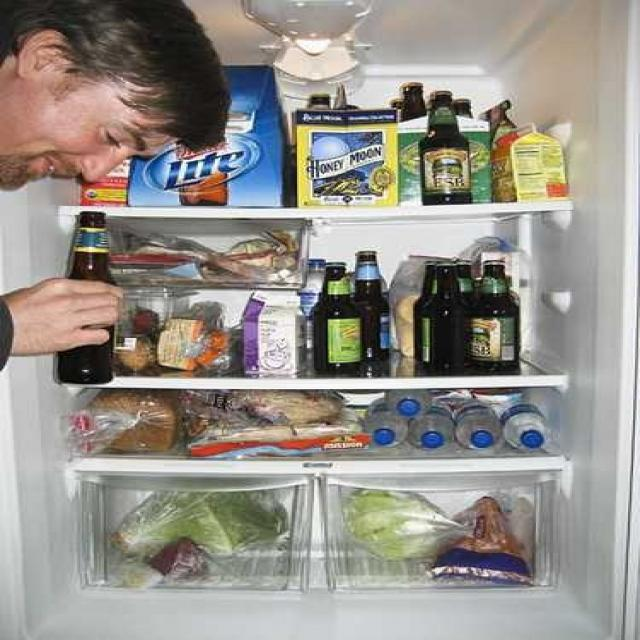refrigerator: (0, 1, 632, 640)
